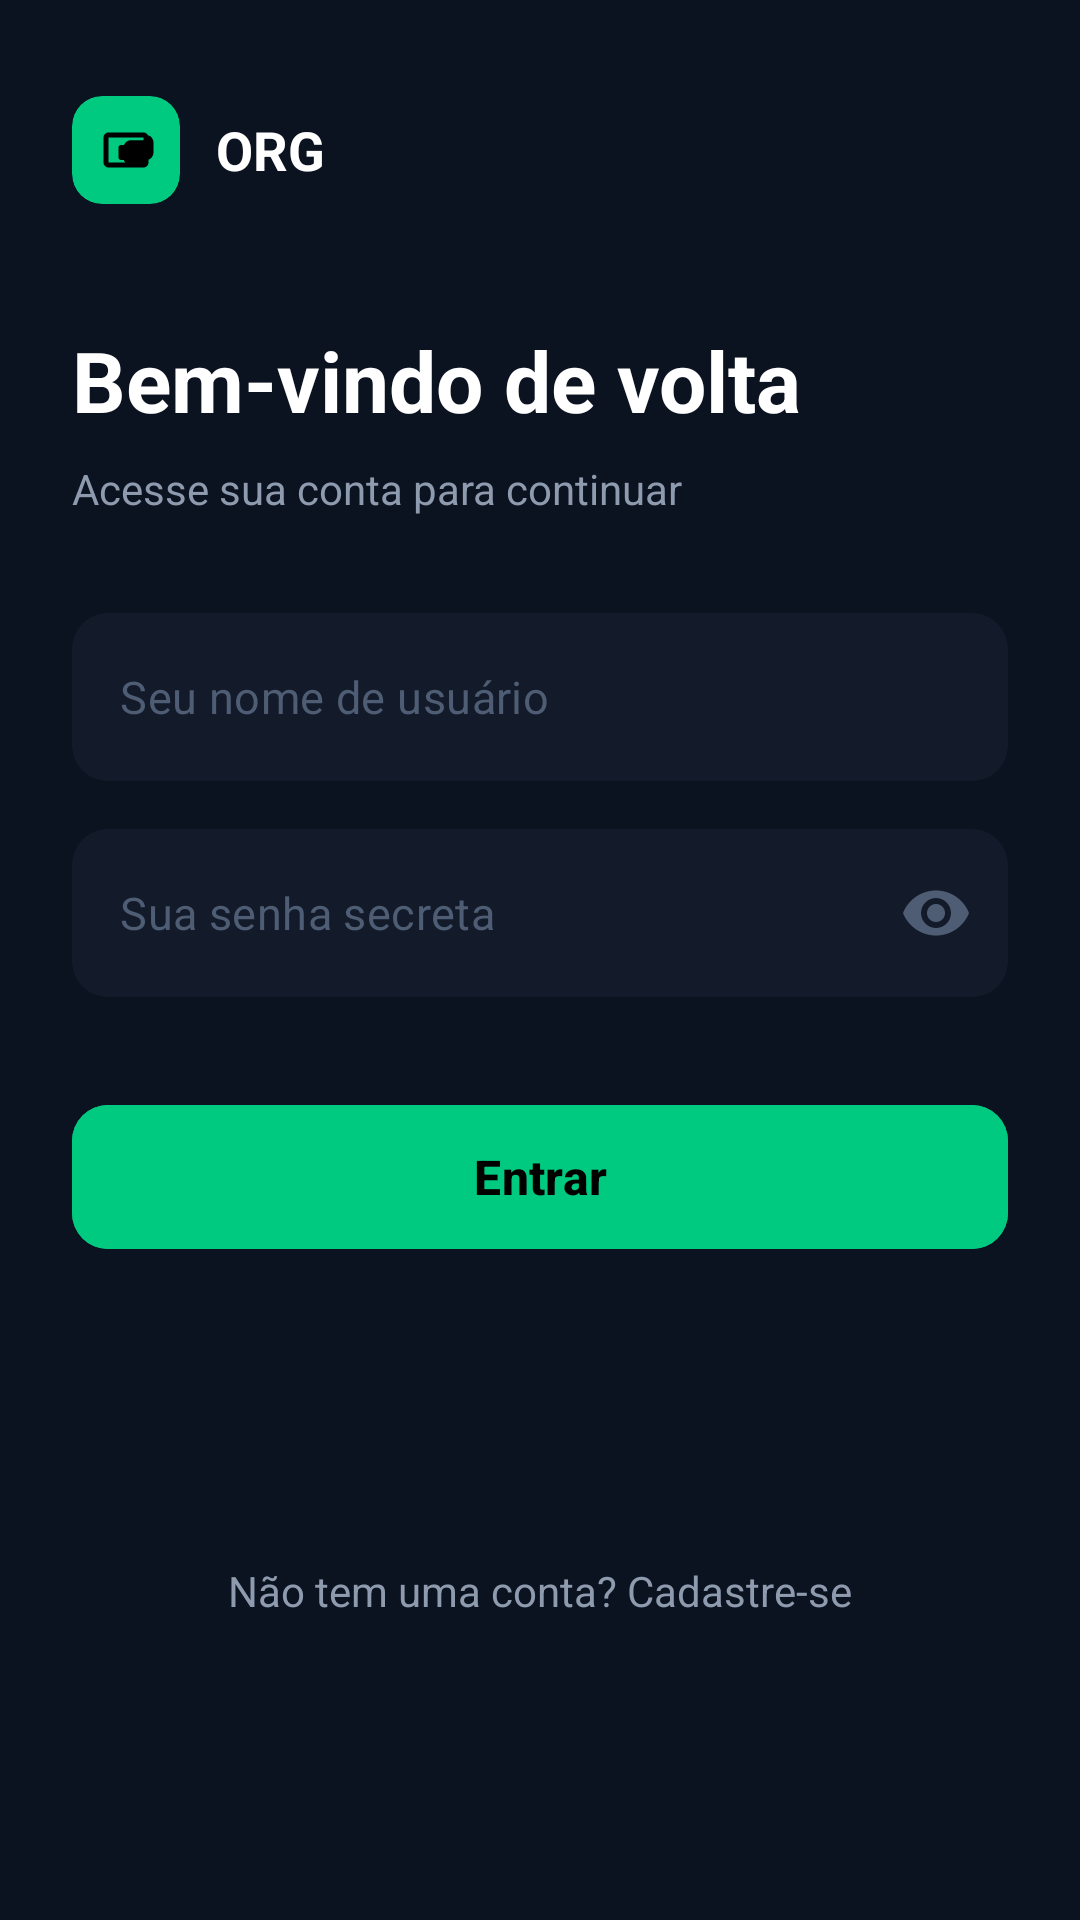

Icons on this 1080x1920 Android screen, each with the point to tap as point (x, y):
Carteira: point (128, 150)
